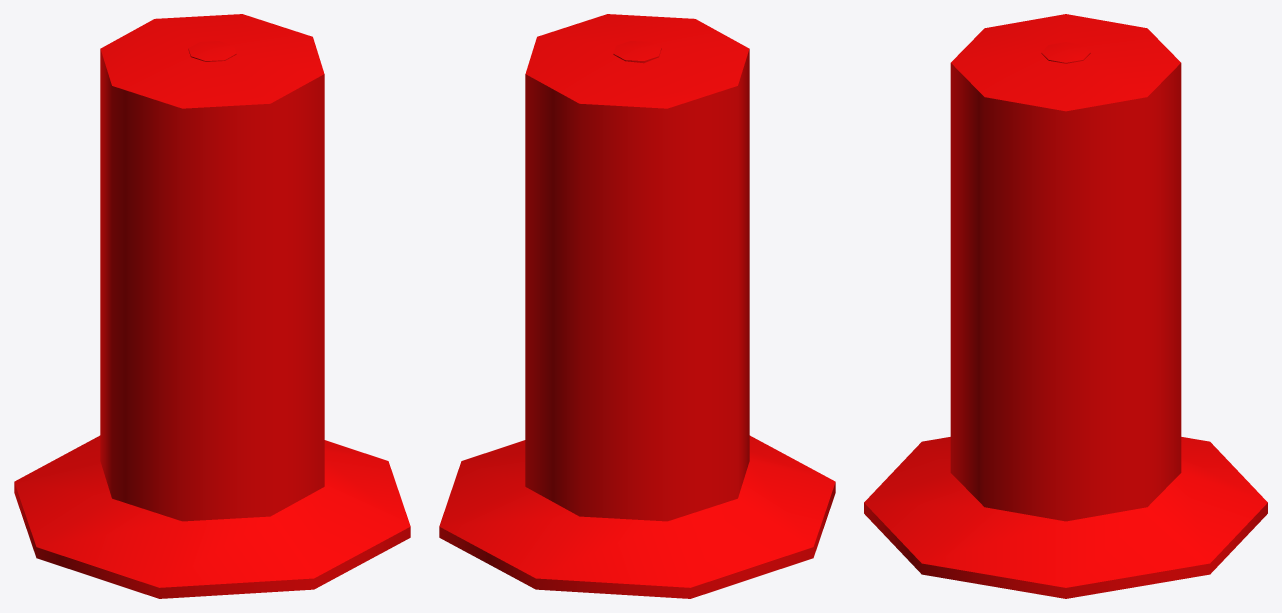
The model's file is Prop_ConeswithBollard_Set01_01.FBX.
3 renders of one model, left to right at view 1: azimuth 30°, elevation 25°; view 2: azimuth 150°, elevation 25°; view 3: azimuth 270°, elevation 25°, orthographic.
Parts seen in each view (by area): view 1: Prop_TrafficSafetyBarrel_01, Prop_TrafficSafetyBollard_01; view 2: Prop_TrafficSafetyBarrel_01, Prop_TrafficSafetyBollard_01; view 3: Prop_TrafficSafetyBarrel_01, Prop_TrafficSafetyBollard_01.
Boxes of the visible parts, bbox=[...] form: Prop_TrafficSafetyBarrel_01: bbox=[14, 14, 410, 598]; Prop_TrafficSafetyBollard_01: bbox=[188, 41, 236, 61]; Prop_TrafficSafetyBarrel_01: bbox=[439, 14, 835, 598]; Prop_TrafficSafetyBollard_01: bbox=[613, 41, 661, 63]; Prop_TrafficSafetyBarrel_01: bbox=[864, 14, 1267, 598]; Prop_TrafficSafetyBollard_01: bbox=[1041, 42, 1090, 63].
Size of what is drawn, in the model's own units: 78.12 by 98.85 by 78.12.
